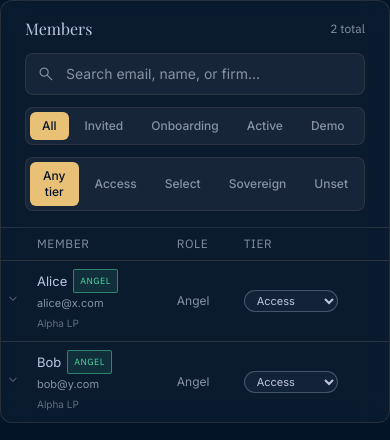
Test: <MembersTable /> — filtering › filters by email substring (case-insensitive)
Type "BOB" into the field with placeholder "Search email, name, or firm…" at coordinates (195, 74), box [25, 53, 365, 95]
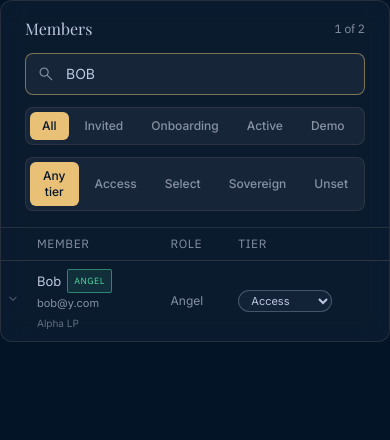
Expected: the text "bob@y.com" is shown, [37, 296, 99, 310]
Result: the text "alice@x.com" is gone
Result: the text "1 of 2" is shown at [334, 21, 365, 37]
